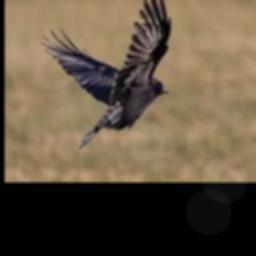Crow: (39, 0, 171, 147)
